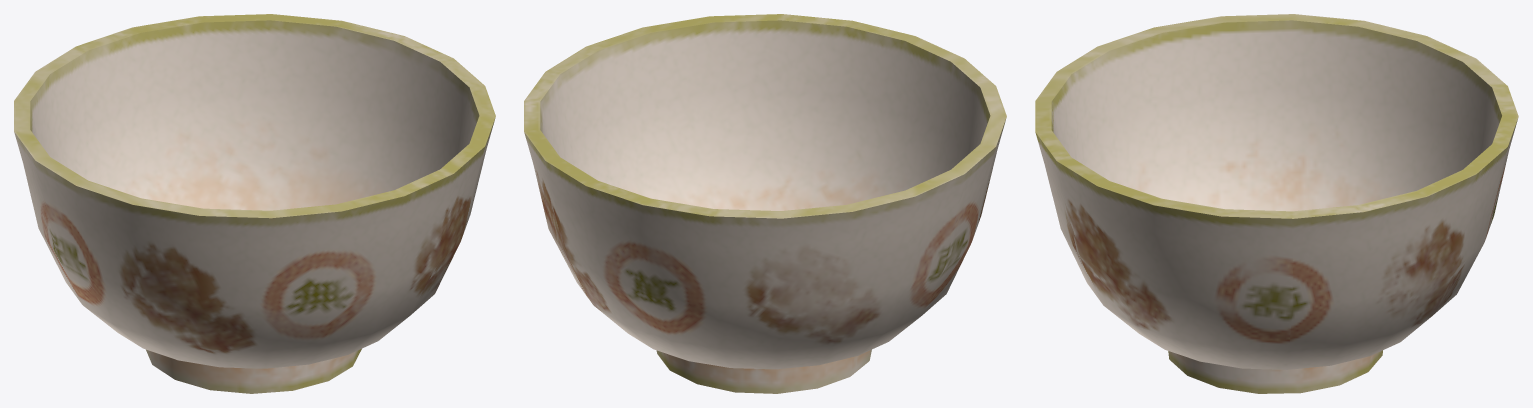
The model's file is M_RiceBowl_02.FBX.
The picture shows the model from 3 angles, left to right: view 1: azimuth 30°, elevation 25°; view 2: azimuth 150°, elevation 25°; view 3: azimuth 270°, elevation 25°; orthographic projection.
Parts seen in each view (by area): view 1: M_RiceBowl_02; view 2: M_RiceBowl_02; view 3: M_RiceBowl_02.
Boxes of the visible parts, box(x1,y1,x2,y2) form: M_RiceBowl_02: box(14, 14, 495, 393); M_RiceBowl_02: box(524, 14, 1006, 393); M_RiceBowl_02: box(1035, 14, 1518, 393).
Bounding box in the file's own units: 9.97 × 9.94 × 5.28.
